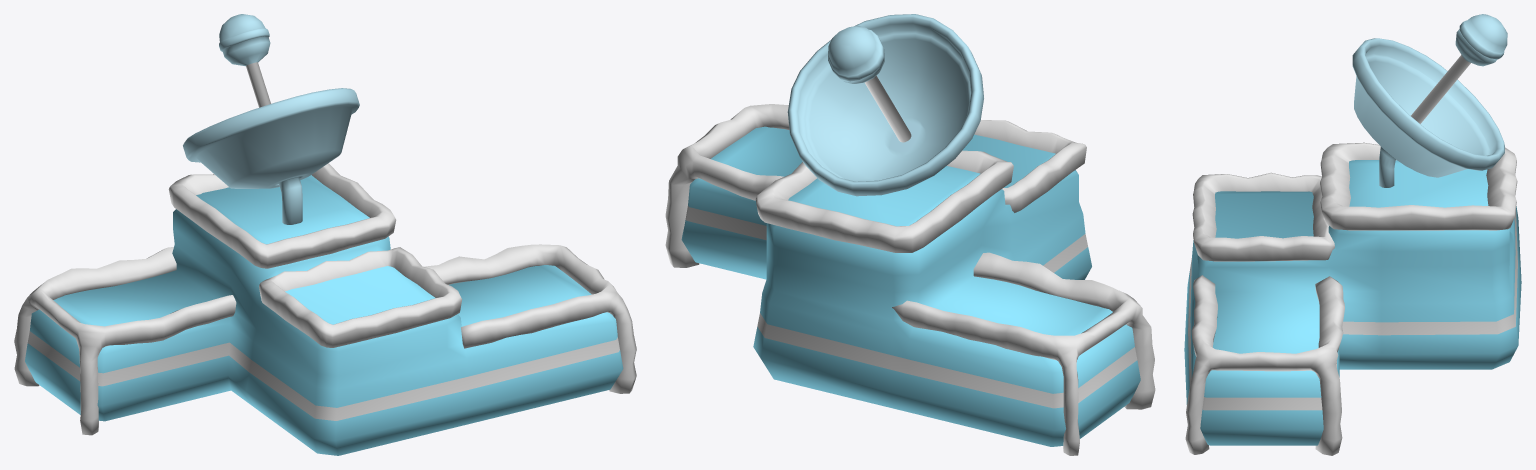
The model's file is Tower_Support_RangeUp (6).fbx.
3 renders of one model, left to right at view 1: azimuth 30°, elevation 25°; view 2: azimuth 150°, elevation 25°; view 3: azimuth 270°, elevation 25°, orthographic. The views are drawn at different scales.
Visible parts, largest first — view 1: Cube.004, Cube.005, Cube.031; view 2: Cube.004, Cube.005, Cube.031; view 3: Cube.004, Cube.005, Cube.031.
Part boxes in pixels (box(x1,y1,x2,y2)): Cube.004: box(25, 175, 623, 455); Cube.005: box(14, 163, 636, 435); Cube.031: box(183, 14, 359, 224); Cube.004: box(681, 126, 1140, 446); Cube.005: box(665, 104, 1155, 455); Cube.031: box(787, 14, 983, 196); Cube.004: box(1184, 160, 1521, 445); Cube.005: box(1185, 142, 1517, 455); Cube.031: box(1352, 14, 1507, 187).
Size of the model in its own units: 293 by 198 by 187.
